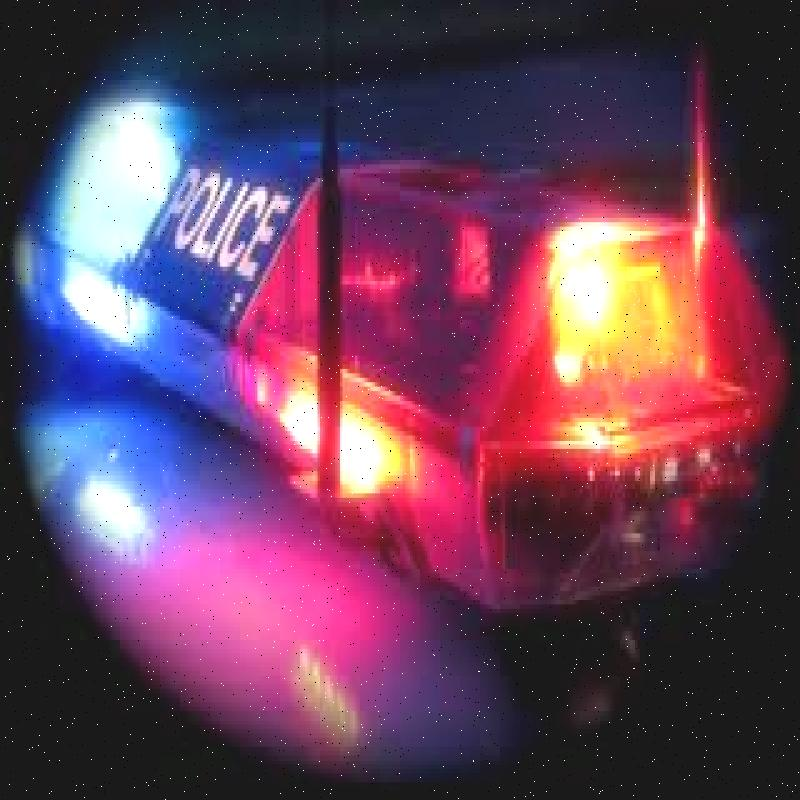AmbulanceSiren: (15, 61, 800, 667)
